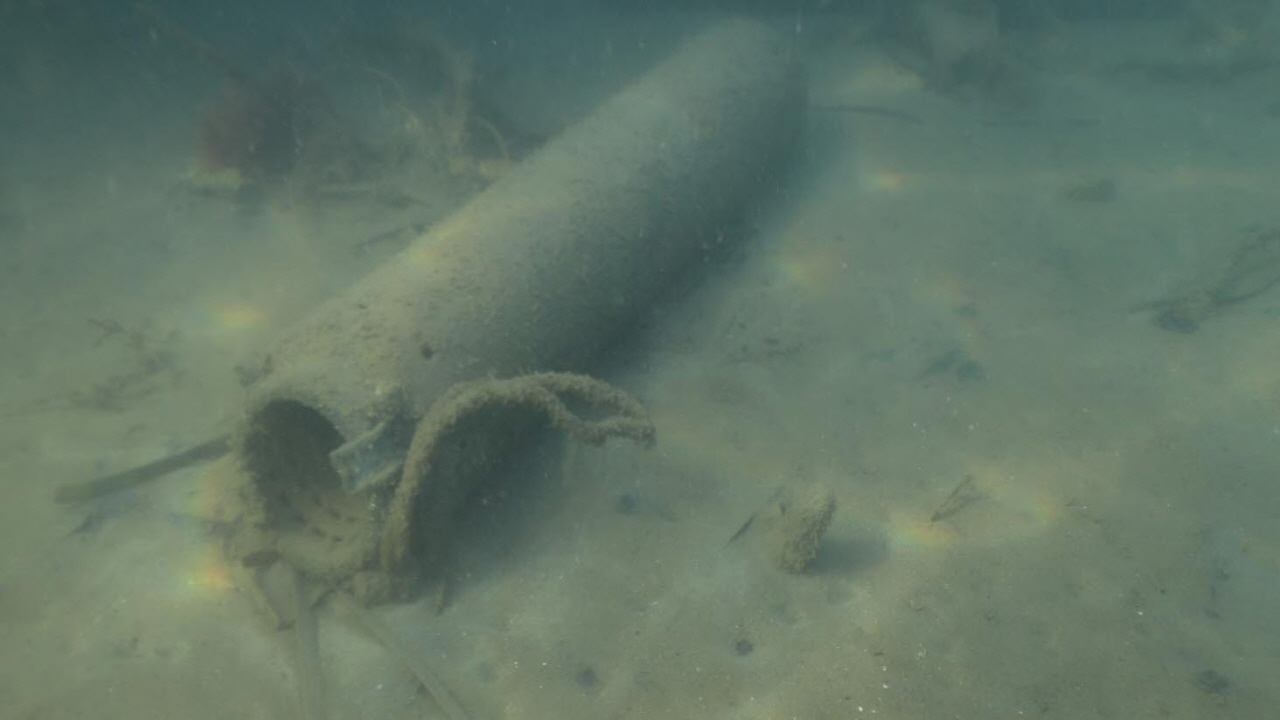eel fish trap: (230, 21, 809, 579)
rope: (389, 371, 656, 562)
